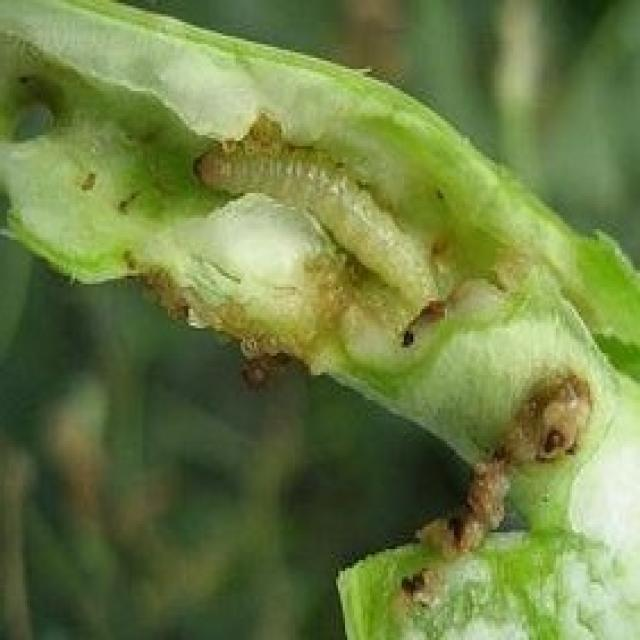peach borer: (192, 142, 446, 313)
